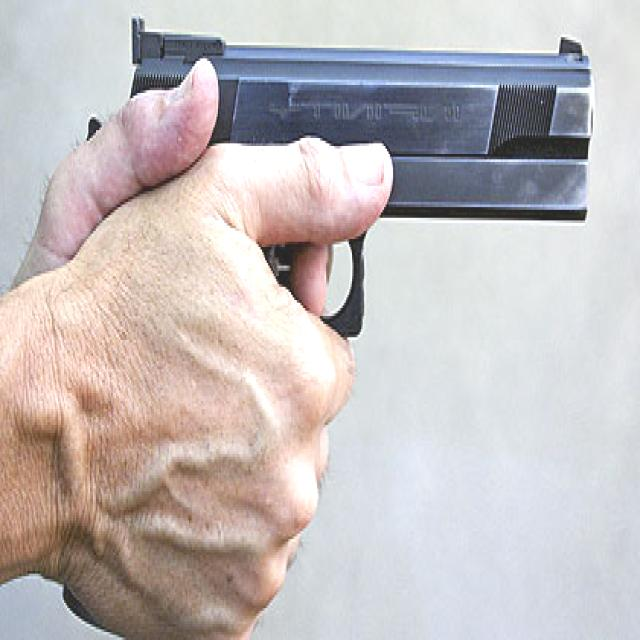pistol: (75, 21, 597, 332)
